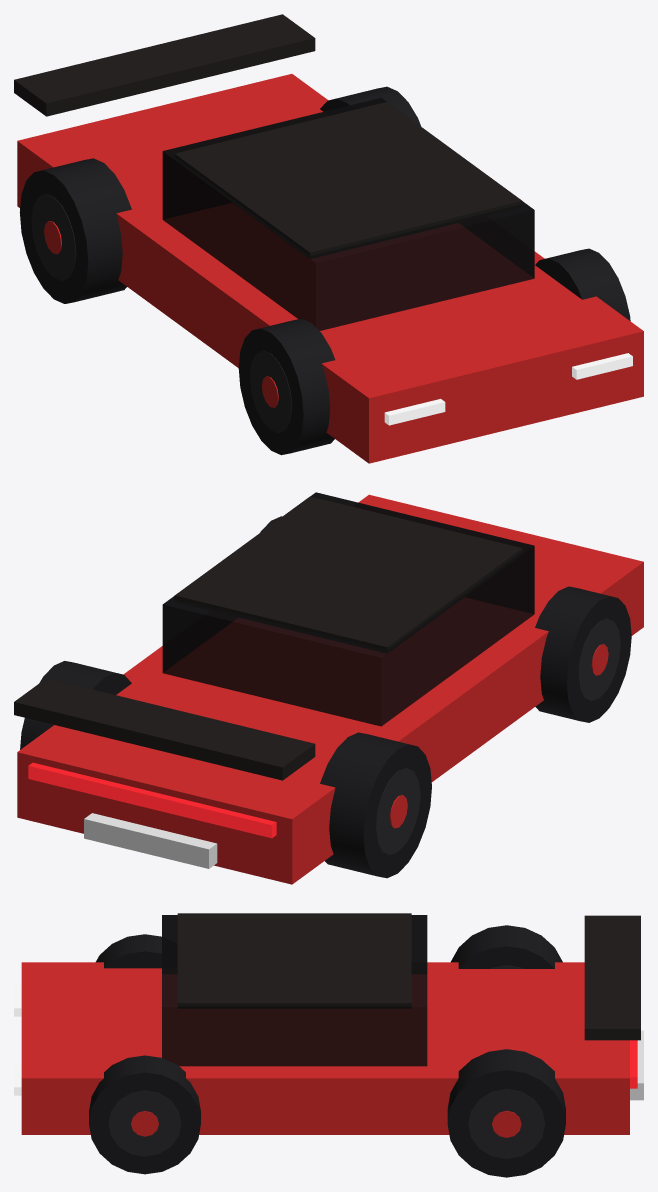
Rendered from corvette_eray.glb.
The picture shows the model from 3 angles, top to bottom: view 1: azimuth 30°, elevation 25°; view 2: azimuth 150°, elevation 25°; view 3: azimuth 270°, elevation 25°; orthographic projection. The views are drawn at different scales.
Size of the model in its own units: 0.5493 by 0.2574 by 1.
